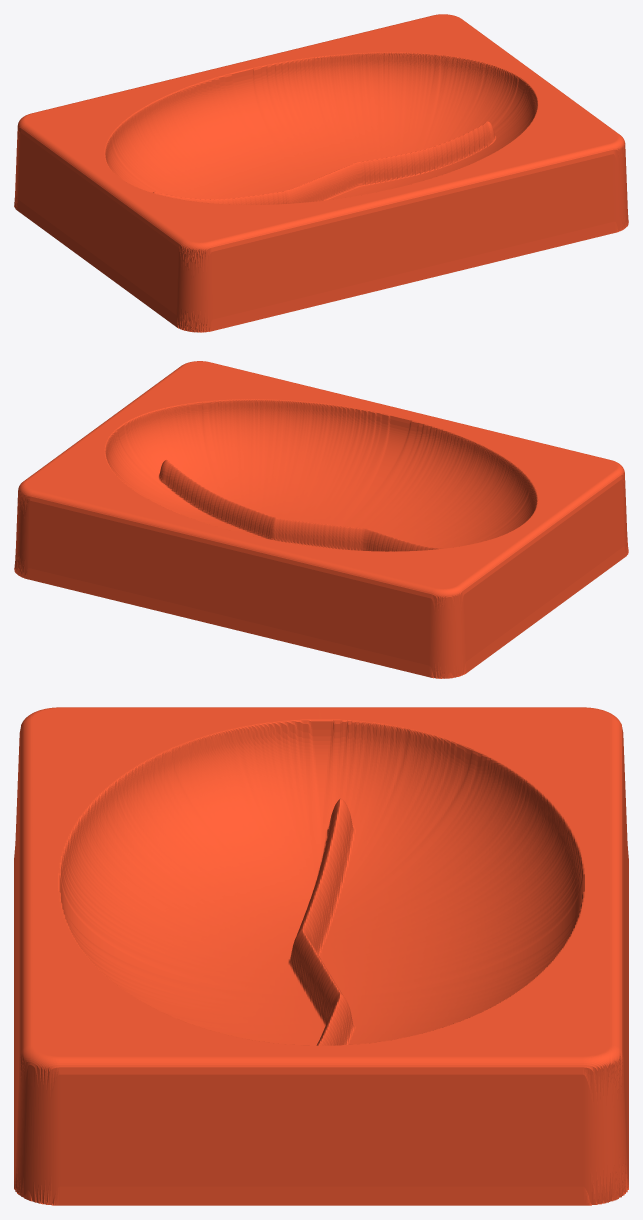
File: mold.glb
3 renders of one model, top to bottom at view 1: azimuth 30°, elevation 25°; view 2: azimuth 150°, elevation 25°; view 3: azimuth 270°, elevation 25°, orthographic. The views are drawn at different scales.
Parts seen in each view (by area): view 1: geometry_0; view 2: geometry_0; view 3: geometry_0.
Boxes of the visible parts, x1=… form: geometry_0: x1=14, y1=14, x2=628, y2=332; geometry_0: x1=14, y1=361, x2=628, y2=678; geometry_0: x1=14, y1=707, x2=628, y2=1205.
Size of the model in its own units: 0.1709 by 0.031 by 0.1222.
